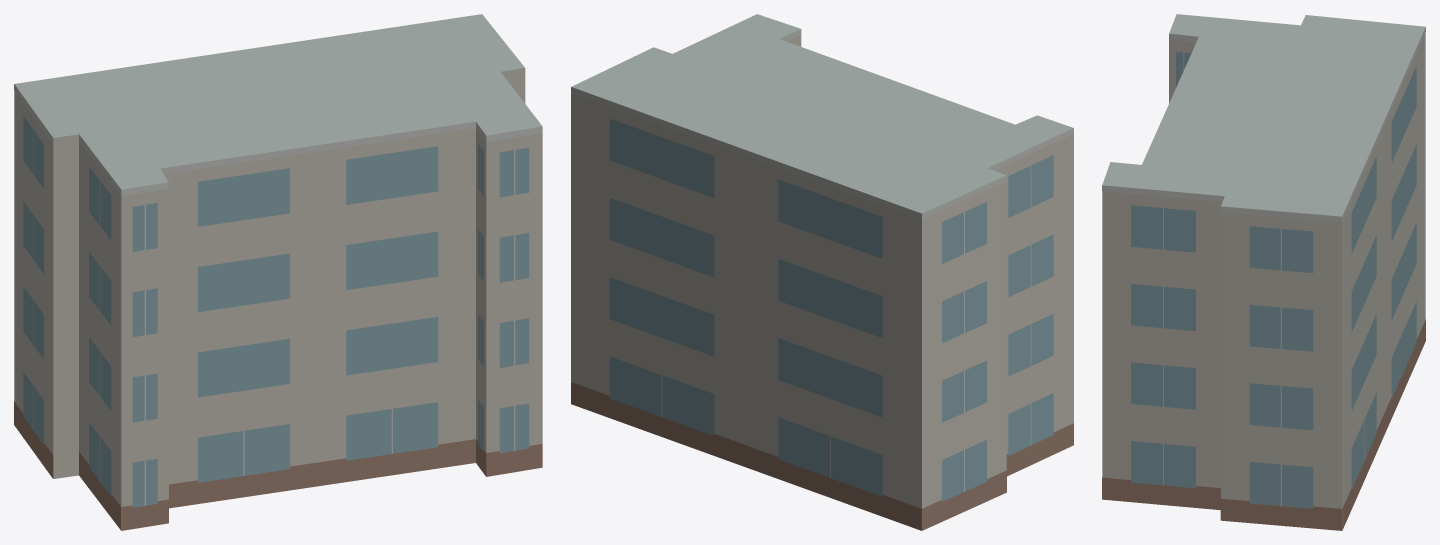
Rendered from survey-upis-32705797.glb.
The picture shows the model from 3 angles, left to right: view 1: azimuth 30°, elevation 25°; view 2: azimuth 150°, elevation 25°; view 3: azimuth 270°, elevation 25°; orthographic projection. The views are drawn at different scales.
Parts seen in each view (by area): view 1: survey-upis-32705797.tmp; view 2: survey-upis-32705797.tmp; view 3: survey-upis-32705797.tmp.
Part boxes in pixels (x1,y1,x2,y2): survey-upis-32705797.tmp: (14,14,542,530); survey-upis-32705797.tmp: (571,14,1073,530); survey-upis-32705797.tmp: (1102,14,1425,530).
Size of the model in its own units: 17.98 by 13 by 12.14.
